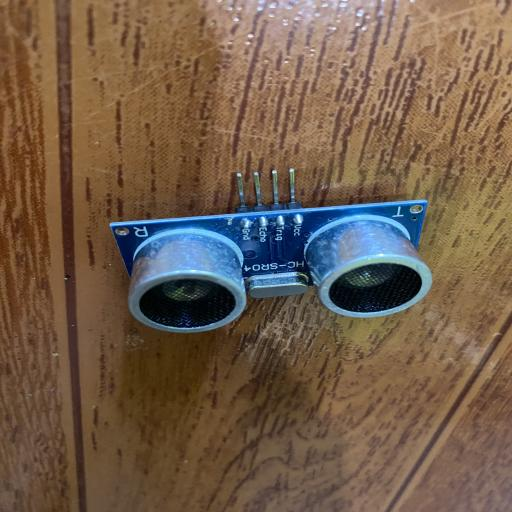Ultrasonic Sensor: (108, 166, 434, 334)
